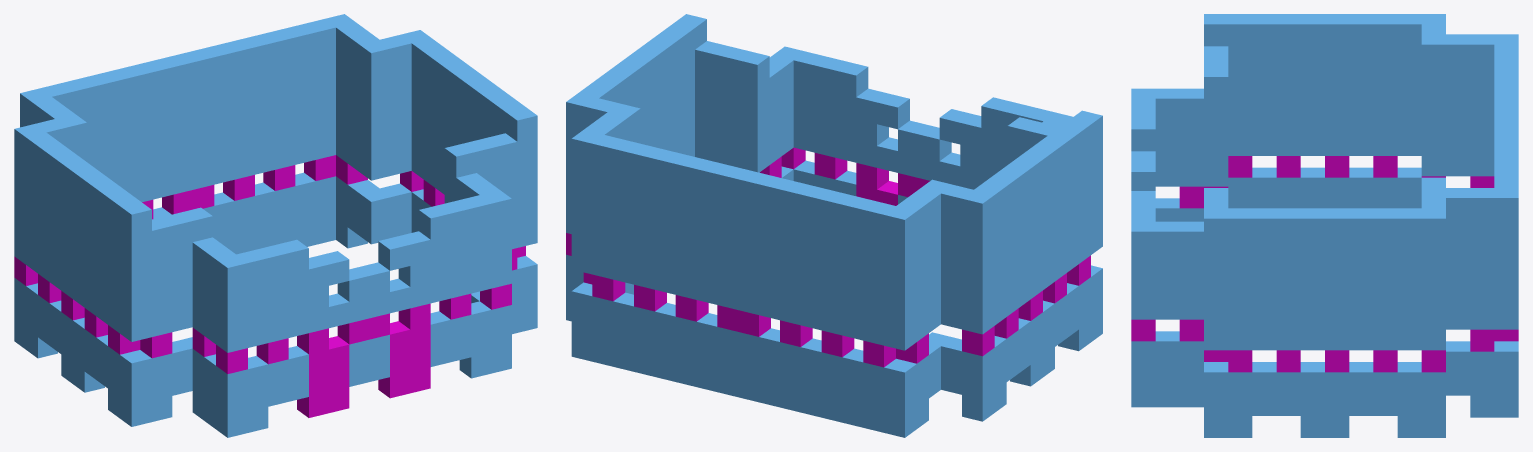
The picture shows the model from 3 angles, left to right: view 1: azimuth 30°, elevation 25°; view 2: azimuth 150°, elevation 25°; view 3: azimuth 270°, elevation 25°; orthographic projection. The views are drawn at different scales.
Visible parts, largest first — view 1: 22; view 2: 22; view 3: 22.
Boxes of the visible parts, x1,y1,x2,y2 form: 22: (14,14,537,437); 22: (566,14,1102,437); 22: (1131,14,1518,437).
Bounding box in the file's own units: 200 × 100 × 160.
Materials: 1 (1 with a texture image).
